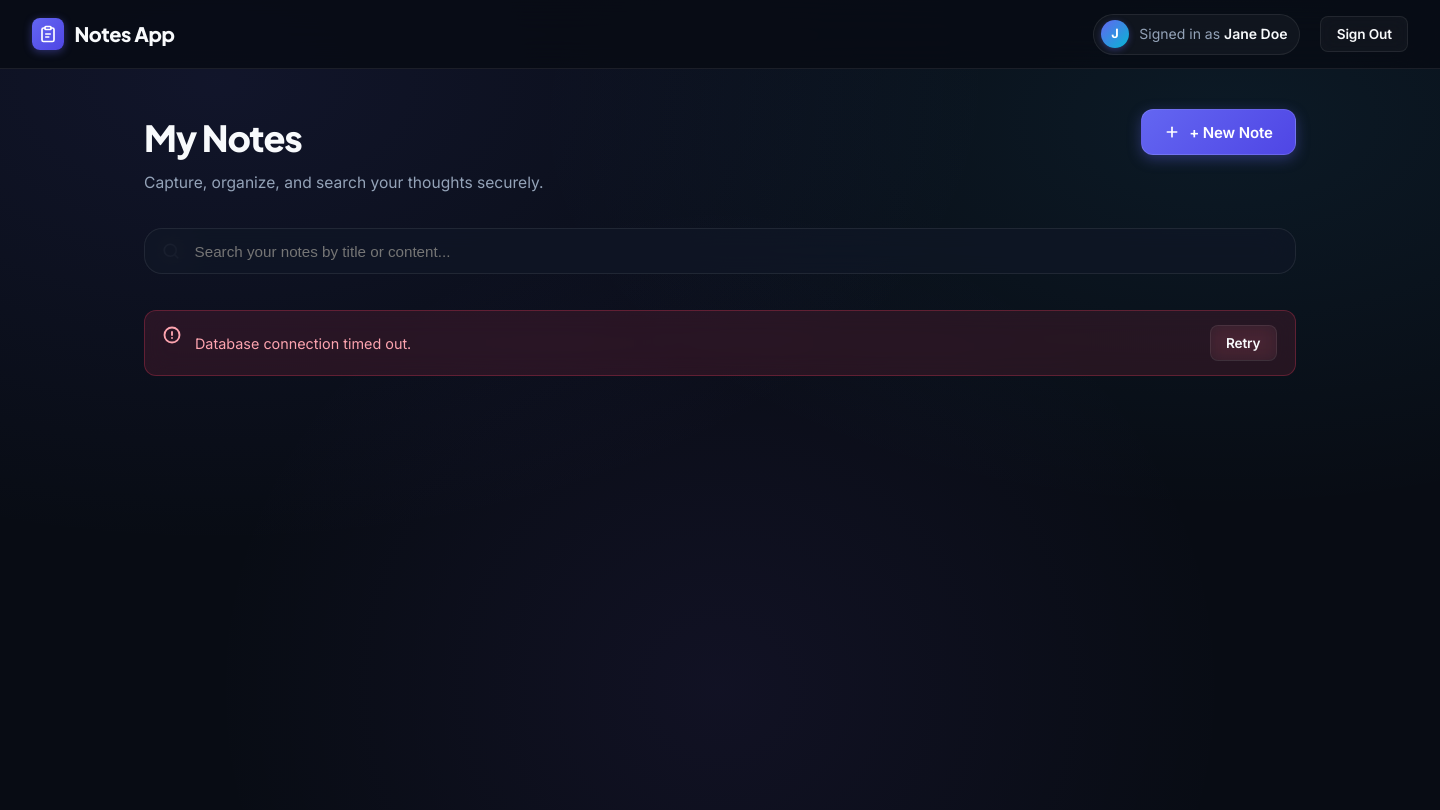
Test: Notes Dashboard Feature › displays error banner on API failure and retries successfully
The width and height of the screenshot is (1440, 810).
Expected: the element with test id "notes-error" is shown, [144, 310, 1296, 376]
Expected: the text "Database connection timed out." is shown, [195, 332, 411, 355]
Click the button with test id "retry-button": (1243, 343) [1210, 326, 1277, 361]
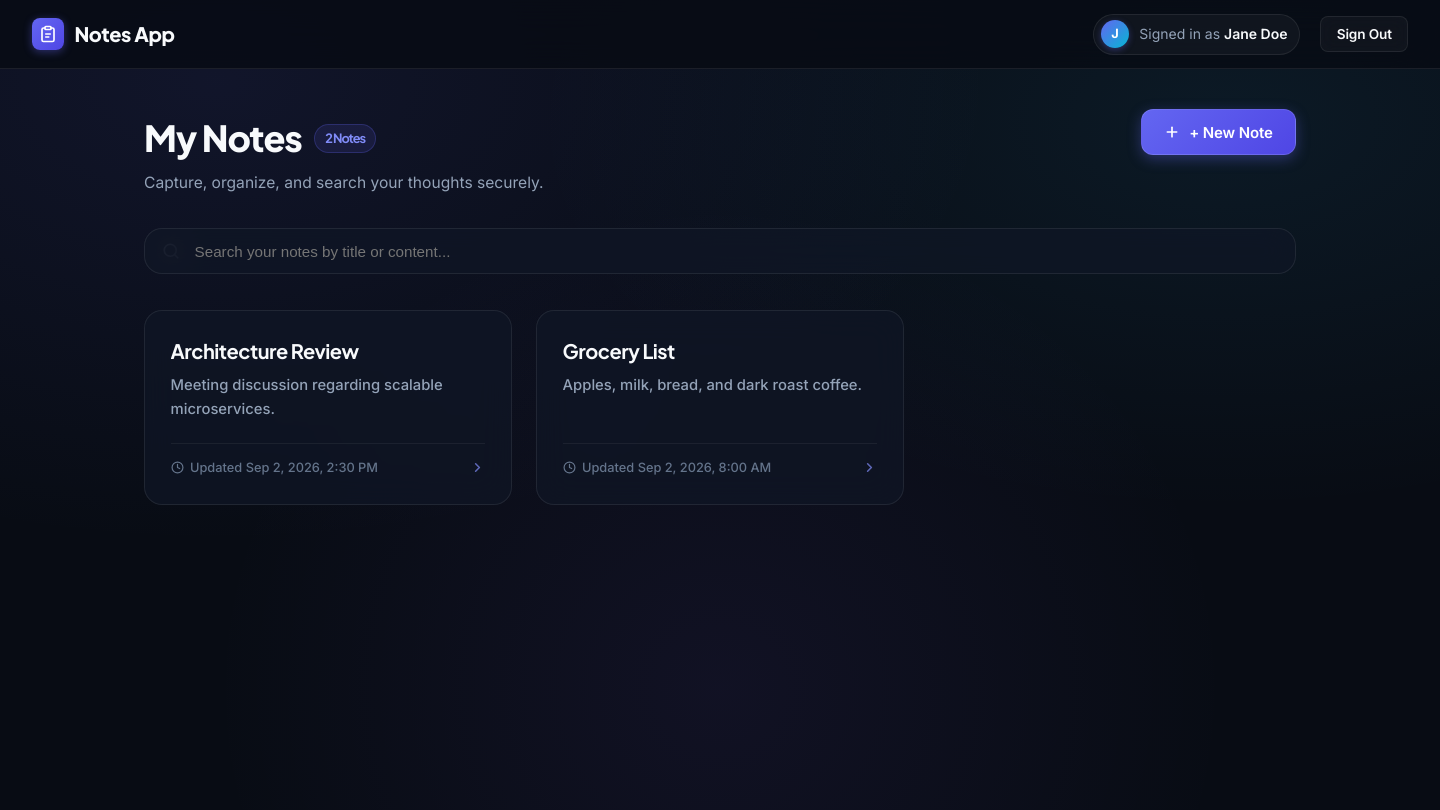
Result: the heading "Architecture Review" is shown at [171, 338, 359, 363]
